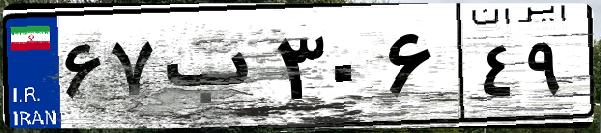0: (330, 28, 385, 110)
3: (270, 28, 330, 110)
4: (475, 38, 525, 113)
6: (385, 28, 445, 110), (57, 26, 110, 100)
7: (110, 28, 158, 98)
9: (525, 38, 570, 115)
ب: (158, 20, 270, 120)
